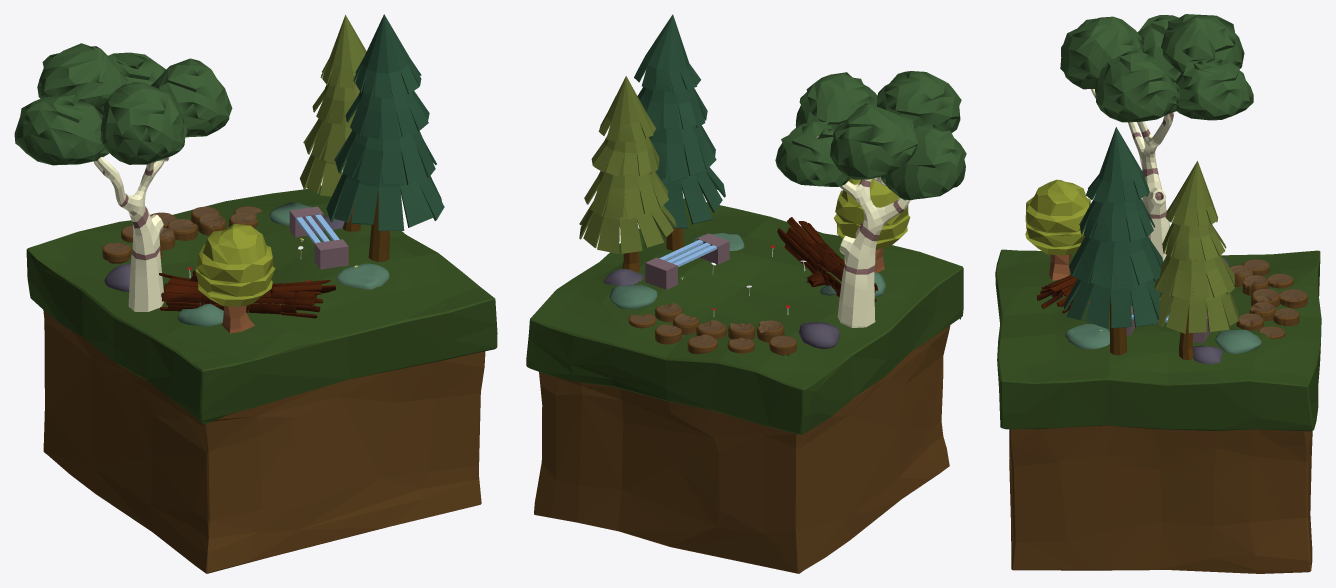
Rendered from tile_trees.min.gltf.
3 views of the same model, side by side, from view 1: azimuth 30°, elevation 25°; view 2: azimuth 150°, elevation 25°; view 3: azimuth 270°, elevation 25° (orthographic). The views are drawn at different scales.
Parts seen in each view (by area): view 1: CENTERED, Cube.004, christmas tree.003, christmas tree.004, Circle.003, Wood.000, trunk.001, Cube.005, Box001.005, Box001.004; view 2: CENTERED, Cube.004, christmas tree.003, christmas tree.004, trunk.001, Circle.003, Wood.000, Cube.005, Box002.000, Box001.001; view 3: CENTERED, Cube.004, christmas tree.003, christmas tree.004, Circle.003, trunk.001, Box001.005, Box002.000, Wood.000, Box001.000.
Boxes of the visible parts, x1,y1,x2,y2 form: CENTERED: (26, 185, 497, 573); Cube.004: (14, 43, 232, 311); christmas tree.003: (326, 14, 444, 261); christmas tree.004: (300, 15, 366, 231); Circle.003: (195, 223, 275, 333); Wood.000: (159, 270, 335, 318); trunk.001: (102, 206, 262, 263); Cube.005: (289, 206, 348, 269); Box001.005: (337, 263, 389, 289); Box001.004: (177, 303, 223, 326); CENTERED: (526, 198, 963, 573); Cube.004: (775, 71, 966, 327); christmas tree.003: (634, 14, 725, 250); christmas tree.004: (579, 76, 676, 272); trunk.001: (628, 303, 796, 355); Circle.003: (833, 178, 910, 272); Wood.000: (777, 217, 878, 302); Cube.005: (645, 233, 729, 289); Box002.000: (609, 284, 657, 308); Box001.001: (798, 322, 840, 348); CENTERED: (995, 249, 1321, 573); Cube.004: (1060, 14, 1253, 261); christmas tree.003: (1064, 127, 1170, 355); christmas tree.004: (1154, 161, 1239, 360); Circle.003: (1025, 179, 1090, 280); trunk.001: (1230, 259, 1307, 338); Box001.005: (1065, 324, 1109, 349); Box002.000: (1215, 329, 1261, 354); Wood.000: (1037, 275, 1077, 313); Box001.000: (1193, 345, 1222, 364).
Size of the model in its own units: 1.37 by 1.57 by 1.09.
